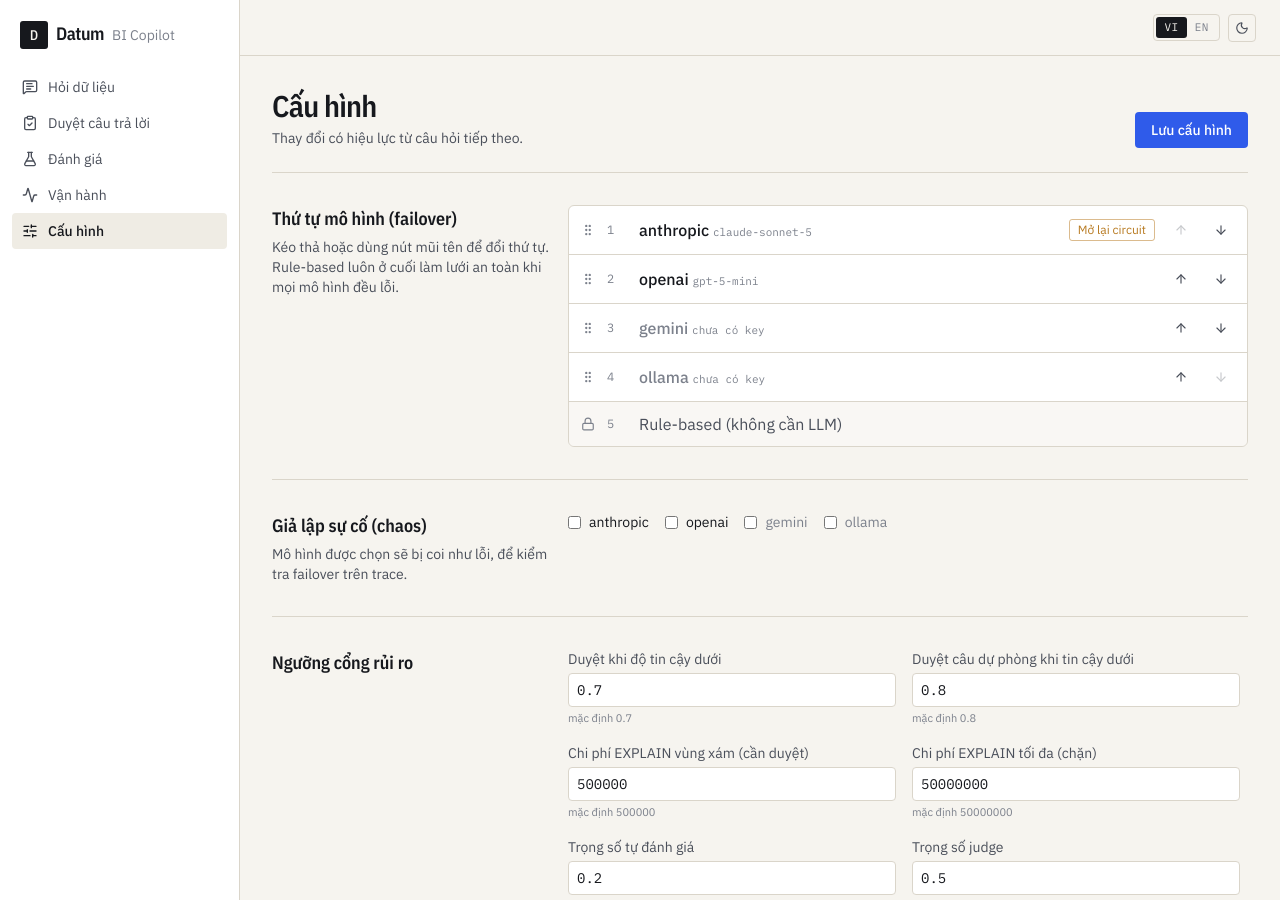
Test: admin and ops › reorders the chain with keyboard buttons, toggles chaos and saves
The image size is (1280, 900).
Click the button named "Đưa anthropic xuống": coordinates (1221, 230) [1207,216,1235,244]
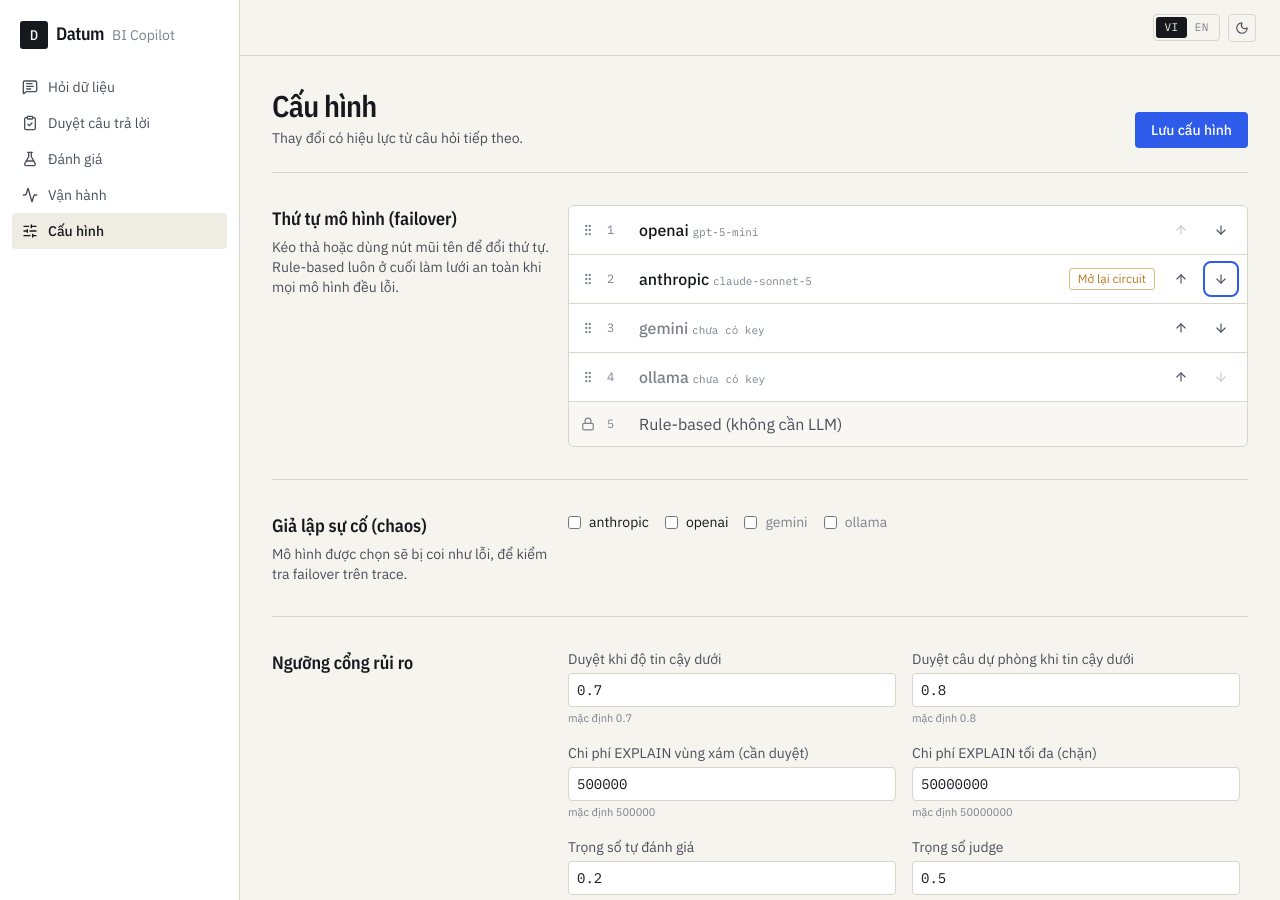
Click the checkbox labelled "openai": coordinates (671, 522) [665,516,678,528]
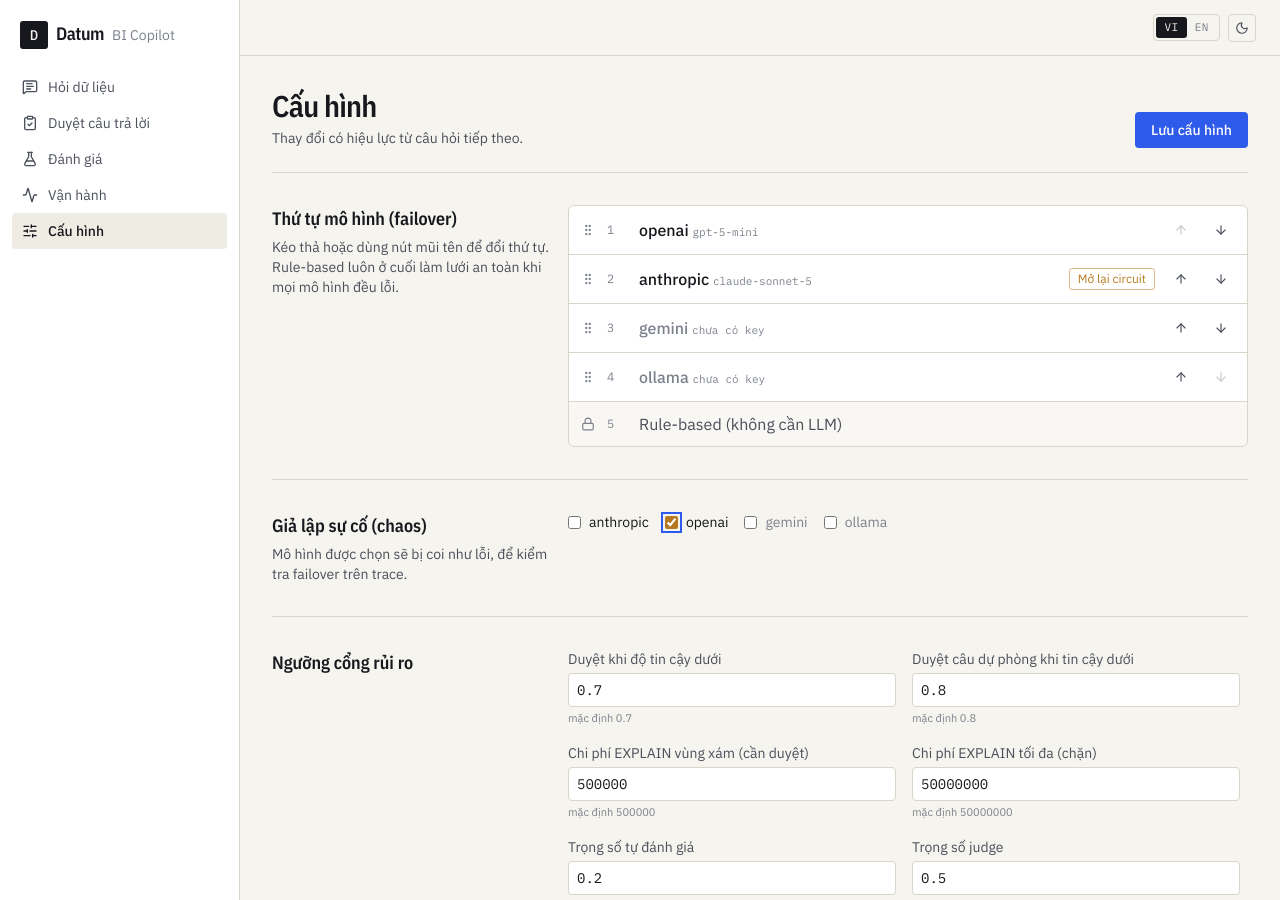
Click the button "Mở lại circuit": coordinates (1112, 279) [1069,268,1155,290]
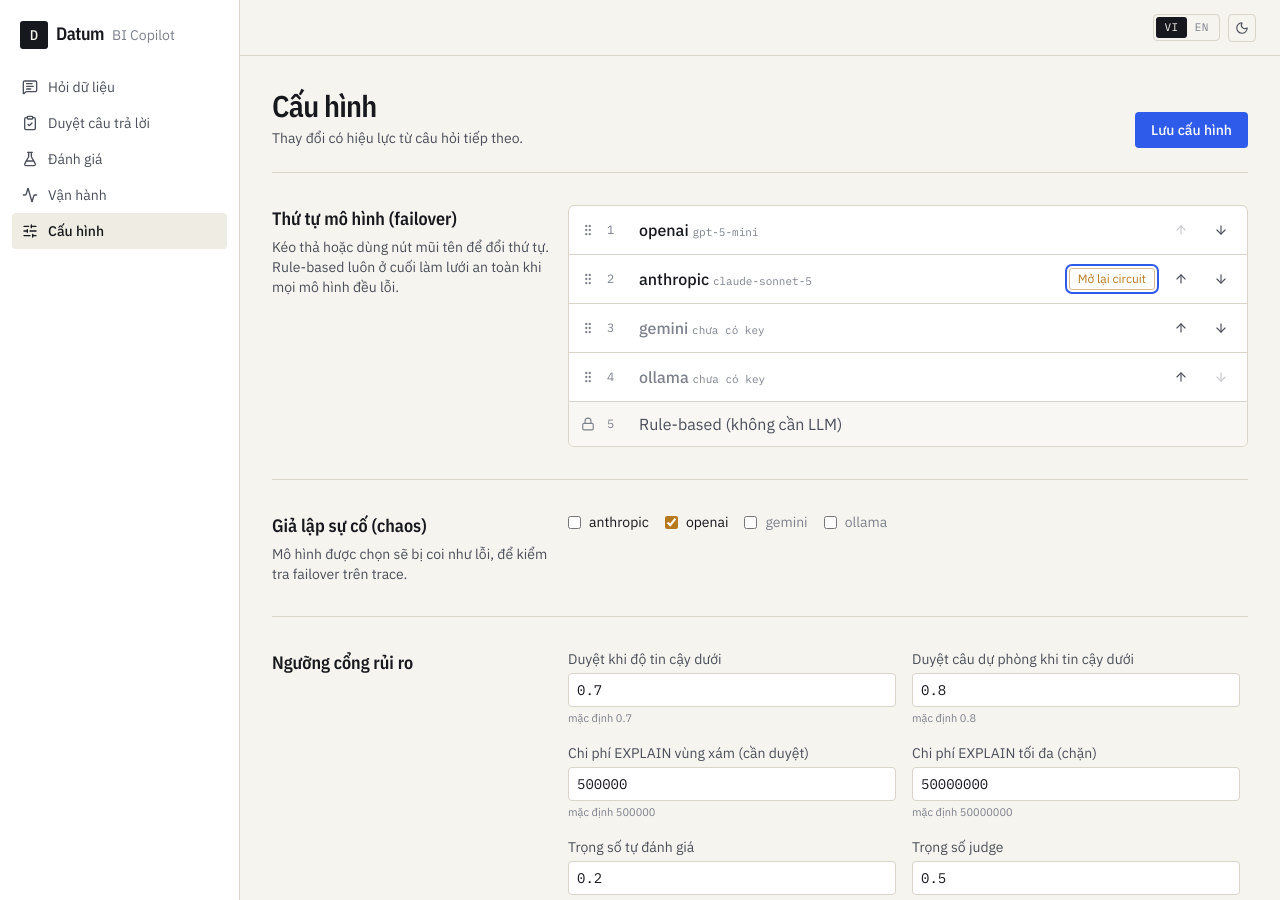
Click the button "Lưu cấu hình": coordinates (1192, 130) [1135,112,1248,148]
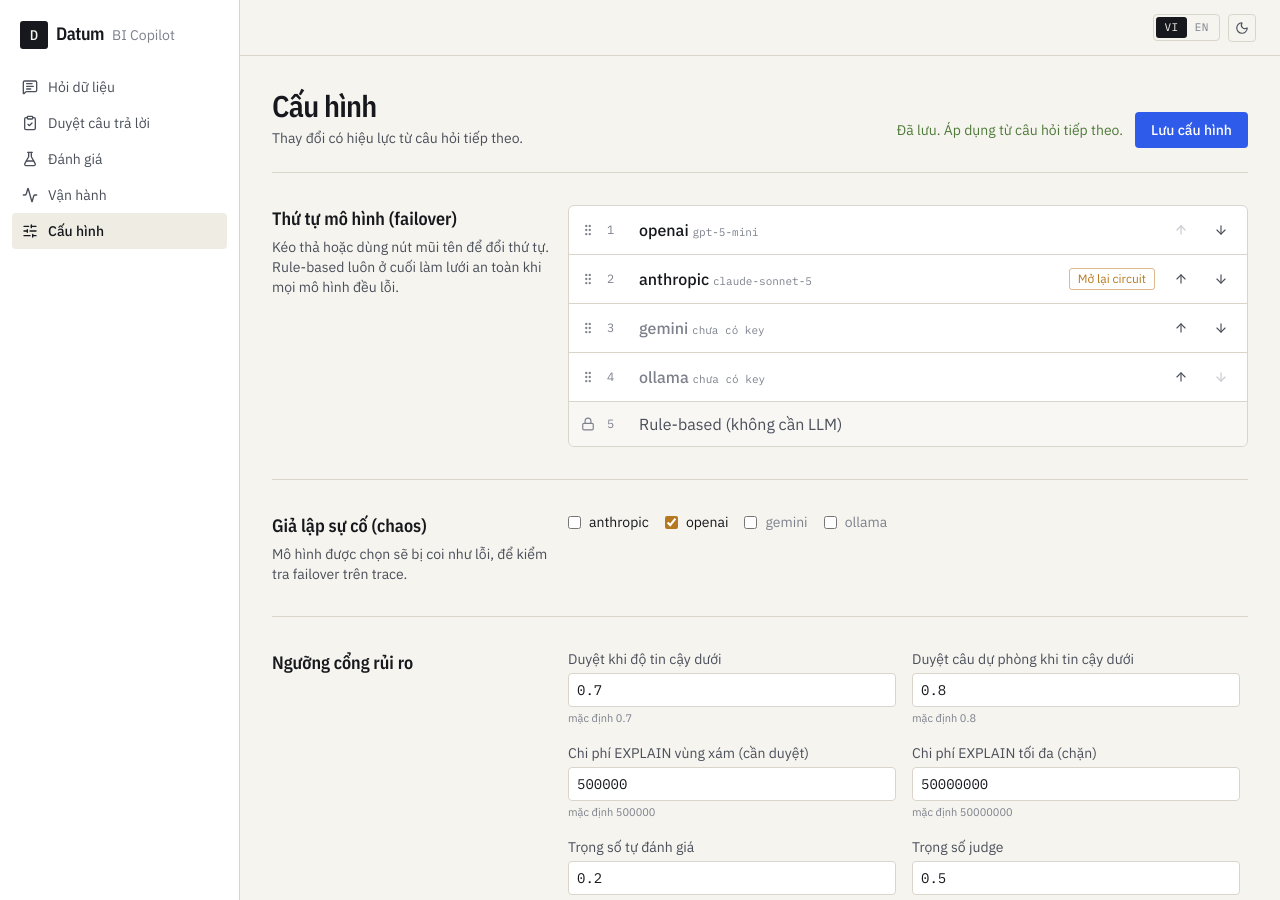
Expected: the text "Đã lưu. Áp dụng từ câu hỏi tiếp theo." is shown, [897,120,1123,140]
